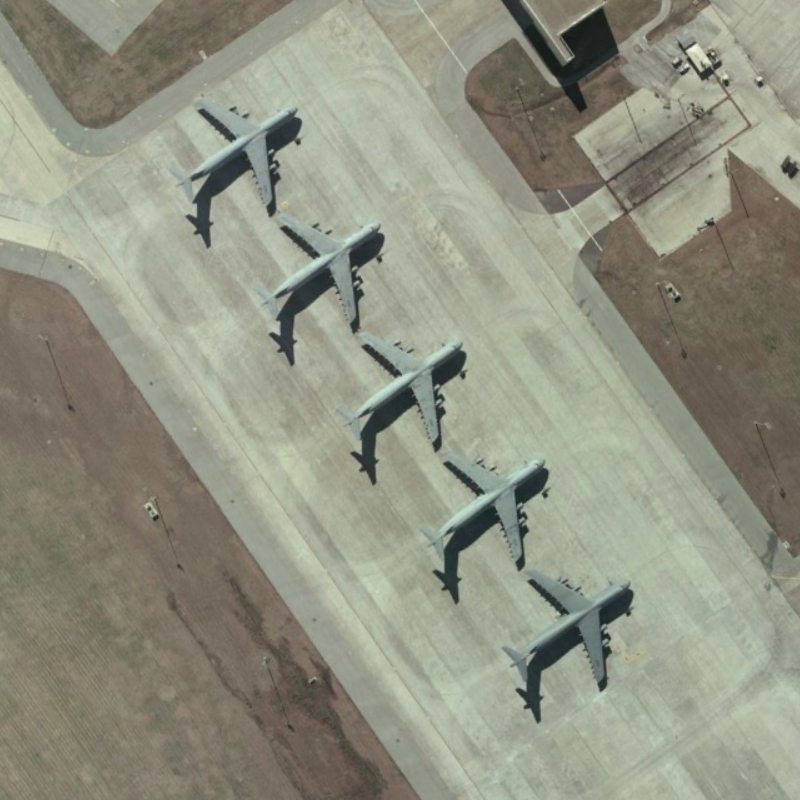A4: (248, 208, 387, 348), (166, 89, 305, 225), (326, 328, 472, 457), (497, 567, 640, 695), (411, 452, 557, 574)
